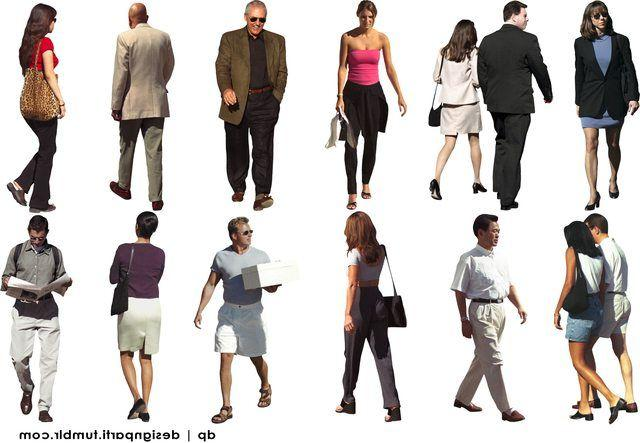Shorts: (213, 301, 270, 357), (596, 292, 633, 339)
dress: (580, 34, 622, 130)
jacket: (215, 26, 289, 125), (476, 24, 554, 114), (109, 21, 176, 121), (573, 32, 639, 121), (432, 42, 482, 106)
long sleeve shirt: (1, 240, 69, 302)
short sleeve shirt: (449, 244, 518, 302), (210, 246, 272, 304), (598, 238, 629, 296), (345, 245, 388, 285), (19, 35, 61, 75), (246, 31, 270, 90)
skirt: (337, 81, 391, 139), (115, 294, 162, 356), (563, 296, 606, 345), (438, 101, 483, 137)
sweater: (108, 242, 168, 299)
trousers: (341, 290, 402, 410), (455, 299, 513, 411), (222, 87, 281, 194), (10, 294, 60, 412), (115, 114, 166, 202), (14, 112, 62, 205), (489, 106, 533, 200)
vest: (574, 245, 603, 298), (345, 48, 383, 86)
